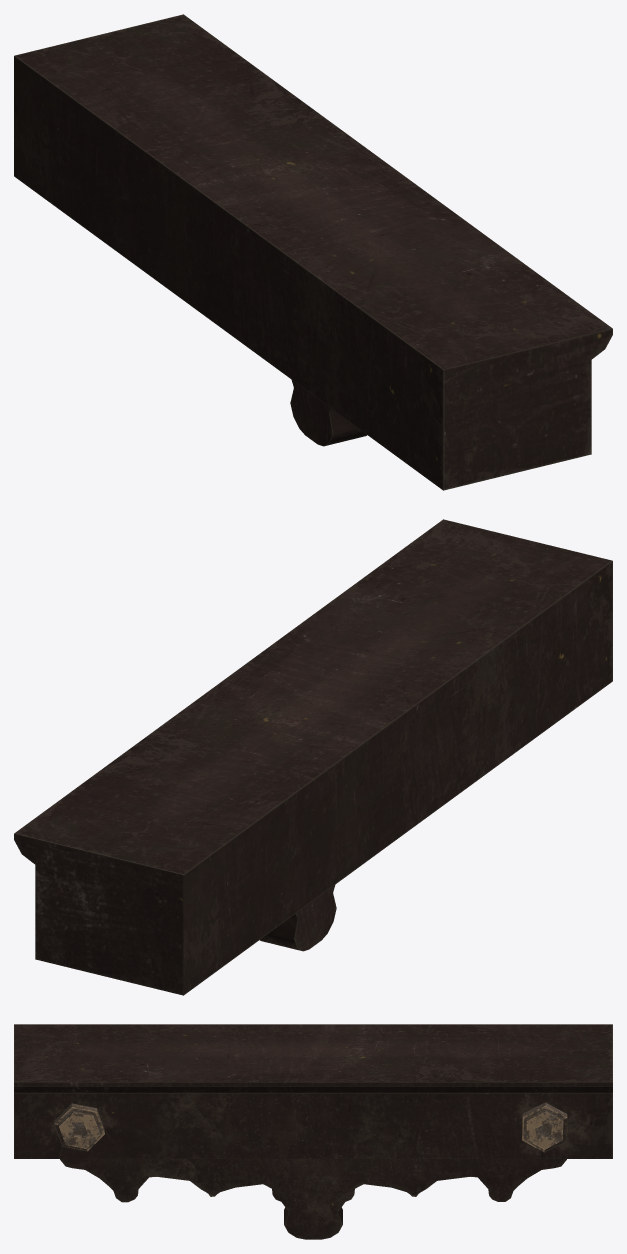
File: platform2.fbx
3 renders of one model, top to bottom at view 1: azimuth 30°, elevation 25°; view 2: azimuth 150°, elevation 25°; view 3: azimuth 270°, elevation 25°, orthographic. The views are drawn at different scales.
Parts seen in each view (by area): view 1: platform2; view 2: platform2; view 3: platform2.
Part boxes in pixels (x1,y1,x2,y2): platform2: (14,14,612,490); platform2: (14,519,612,995); platform2: (14,1024,612,1239).
Bounding box in the file's own units: 25.53 × 35.57 × 112.
